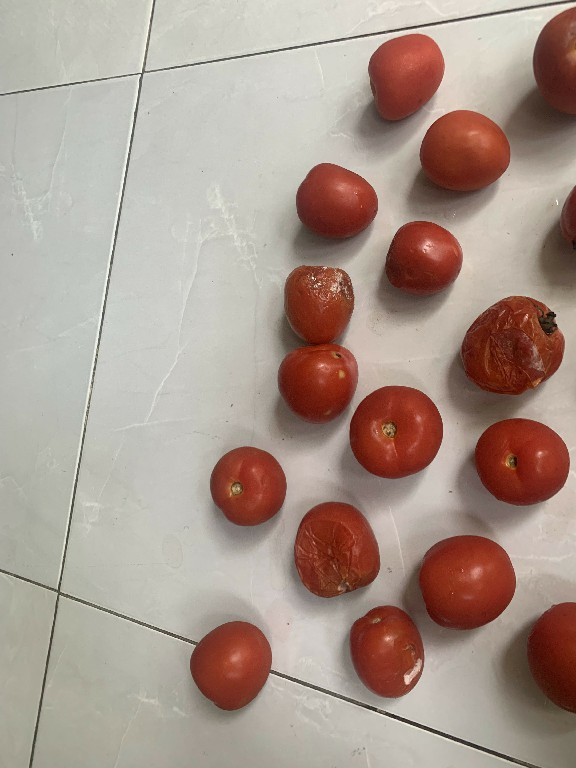NG: (453, 285, 558, 401), (282, 494, 381, 602), (342, 604, 426, 705), (270, 335, 361, 425), (272, 258, 360, 344)
OK: (411, 525, 521, 632), (345, 384, 451, 484), (406, 102, 513, 195), (467, 417, 573, 509), (182, 616, 274, 716), (289, 153, 384, 244), (356, 28, 447, 121), (204, 438, 291, 527), (381, 215, 468, 300)
